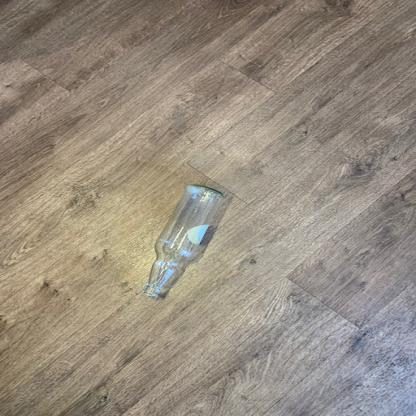trash: (141, 184, 222, 302)
